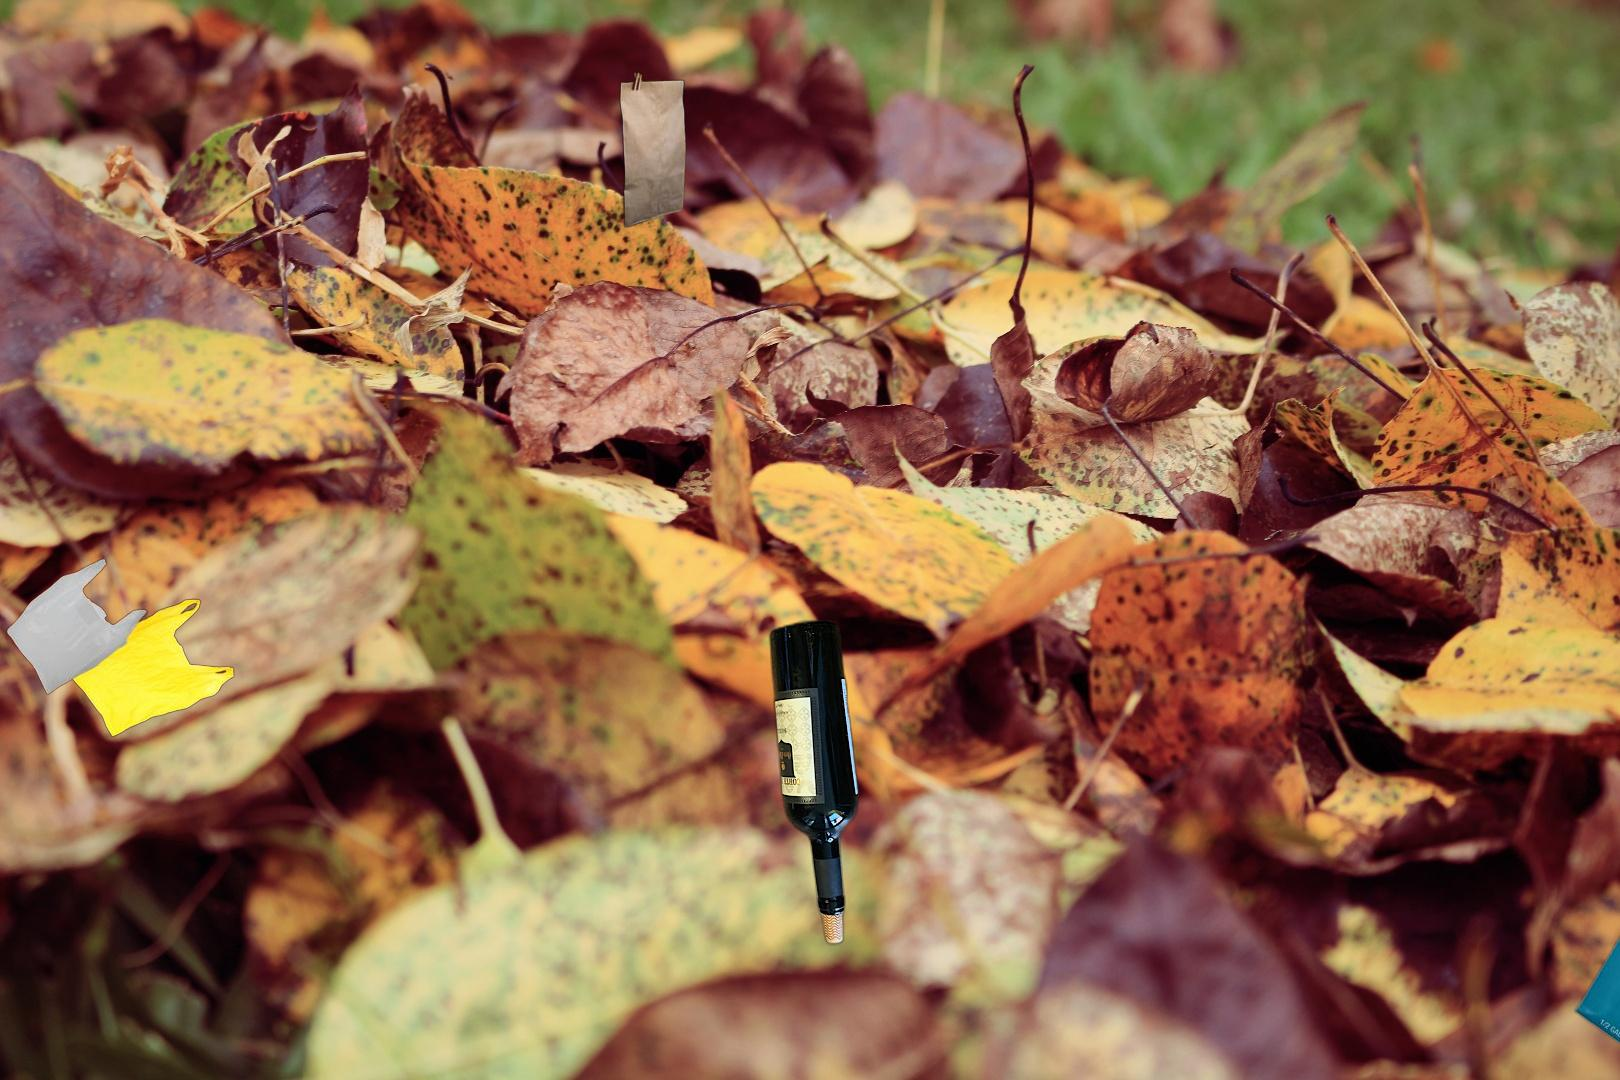glass: (765, 614, 863, 950)
paper: (1571, 768, 1620, 1080)
paper-bag: (617, 67, 711, 235)
plastic-bag: (6, 556, 237, 740)
